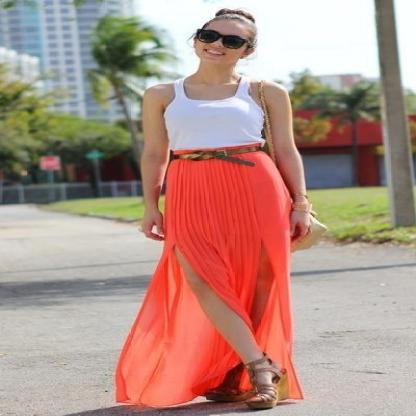bag: (285, 228, 311, 252)
shirt: (162, 71, 264, 157)
shoe: (198, 352, 280, 412)
skirt: (115, 151, 302, 407)
sunglass: (194, 25, 255, 51)
